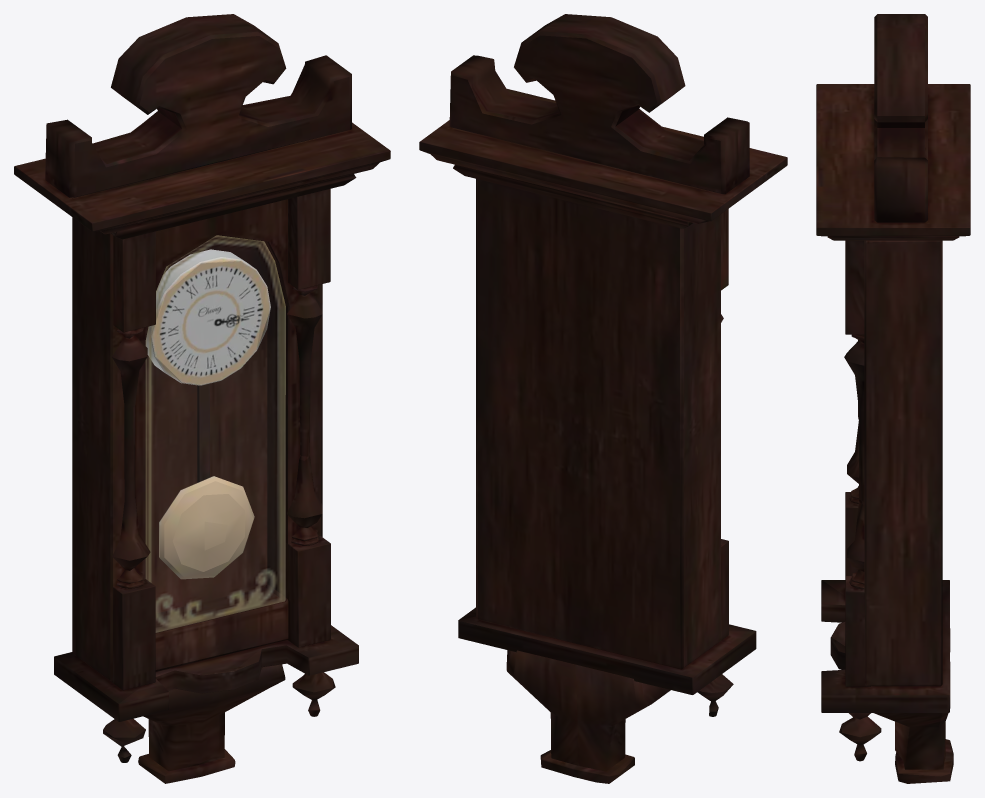
The model's file is clock.glb.
The picture shows the model from 3 angles, left to right: view 1: azimuth 30°, elevation 25°; view 2: azimuth 150°, elevation 25°; view 3: azimuth 270°, elevation 25°; orthographic projection. The views are drawn at different scales.
Parts seen in each view (by area): view 1: clock_face_europe_style_wooden_clock_0; view 2: clock_face_europe_style_wooden_clock_0; view 3: clock_face_europe_style_wooden_clock_0.
Part boxes in pixels (x1=…): clock_face_europe_style_wooden_clock_0: x1=14, y1=14, x2=390, y2=783; clock_face_europe_style_wooden_clock_0: x1=419, y1=14, x2=787, y2=783; clock_face_europe_style_wooden_clock_0: x1=816, y1=14, x2=970, y2=783.
Bounding box in the file's own units: 0.7104 × 1.7 × 0.3226.
1 material, 1 textured.
